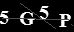5: (38, 5, 48, 20), (1, 10, 9, 26)
G: (18, 11, 35, 26)
P: (57, 13, 71, 28)
